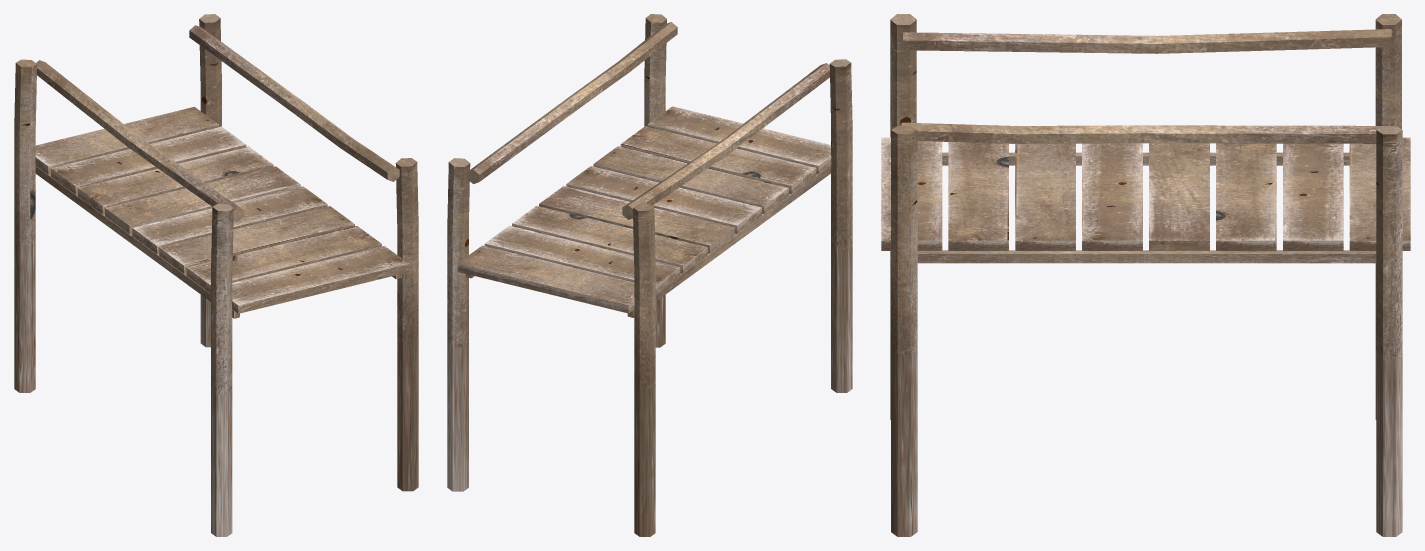
The model's file is ponte.fbx.
3 renders of one model, left to right at view 1: azimuth 30°, elevation 25°; view 2: azimuth 150°, elevation 25°; view 3: azimuth 270°, elevation 25°, orthographic. The views are drawn at different scales.
Parts seen in each view (by area): view 1: Cylinder.005, Cylinder.002, Cylinder.006, Cube, Cube.006, Cube.008, Cube.007, Cube.004, Cube.003, Cube.009, Cube.005, Cylinder.003 (+3 smaller); view 2: Cylinder.002, Cylinder.005, Cylinder.001, Cube.009, Cube.003, Cube.004, Cube.005, Cube.008, Cube.007, Cube, Cube.006, Cylinder.003 (+3 smaller); view 3: Cylinder.001, Cylinder.006, Cylinder.004, Cylinder.003, Cube.003, Cube.005, Cube.006, Cube.007, Cube.008, Cube.004, Cube.001, Cube.009 (+4 smaller).
Part boxes in pixels (<box>): Cylinder.005: <box>14,59,37,392</box>; Cylinder.002: <box>211,203,233,536</box>; Cylinder.006: <box>395,158,418,491</box>; Cube: <box>232,245,408,313</box>; Cube.006: <box>105,166,300,234</box>; Cube.008: <box>51,126,246,194</box>; Cube.007: <box>78,146,273,214</box>; Cube.004: <box>159,206,354,273</box>; Cube.003: <box>186,226,381,293</box>; Cube.009: <box>35,107,219,174</box>; Cube.005: <box>132,186,327,254</box>; Cylinder.003: <box>189,25,399,181</box>; Cylinder.002: <box>829,59,852,392</box>; Cylinder.005: <box>633,203,655,536</box>; Cylinder.001: <box>447,158,470,491</box>; Cube.009: <box>457,245,634,313</box>; Cube.003: <box>620,126,816,194</box>; Cube.004: <box>593,146,788,213</box>; Cube.005: <box>566,166,761,233</box>; Cube.008: <box>484,225,680,293</box>; Cube.007: <box>512,205,707,273</box>; Cube: <box>647,106,831,174</box>; Cube.006: <box>539,186,734,253</box>; Cylinder.003: <box>467,22,677,183</box>; Cylinder.001: <box>1376,126,1402,536</box>; Cylinder.006: <box>891,126,917,536</box>; Cylinder.004: <box>902,29,1391,53</box>; Cylinder.003: <box>901,122,1381,143</box>; Cube.003: <box>948,142,1008,250</box>; Cube.005: <box>1082,143,1142,250</box>; Cube.006: <box>1149,143,1209,250</box>; Cube.007: <box>1216,143,1276,250</box>; Cube.008: <box>1283,143,1343,250</box>; Cube.004: <box>1015,143,1075,250</box>; Cube.001: <box>917,250,1376,263</box>; Cube.009: <box>1349,137,1410,250</box>.
Bounding box in the file's own units: 949 × 1458 × 1740.
